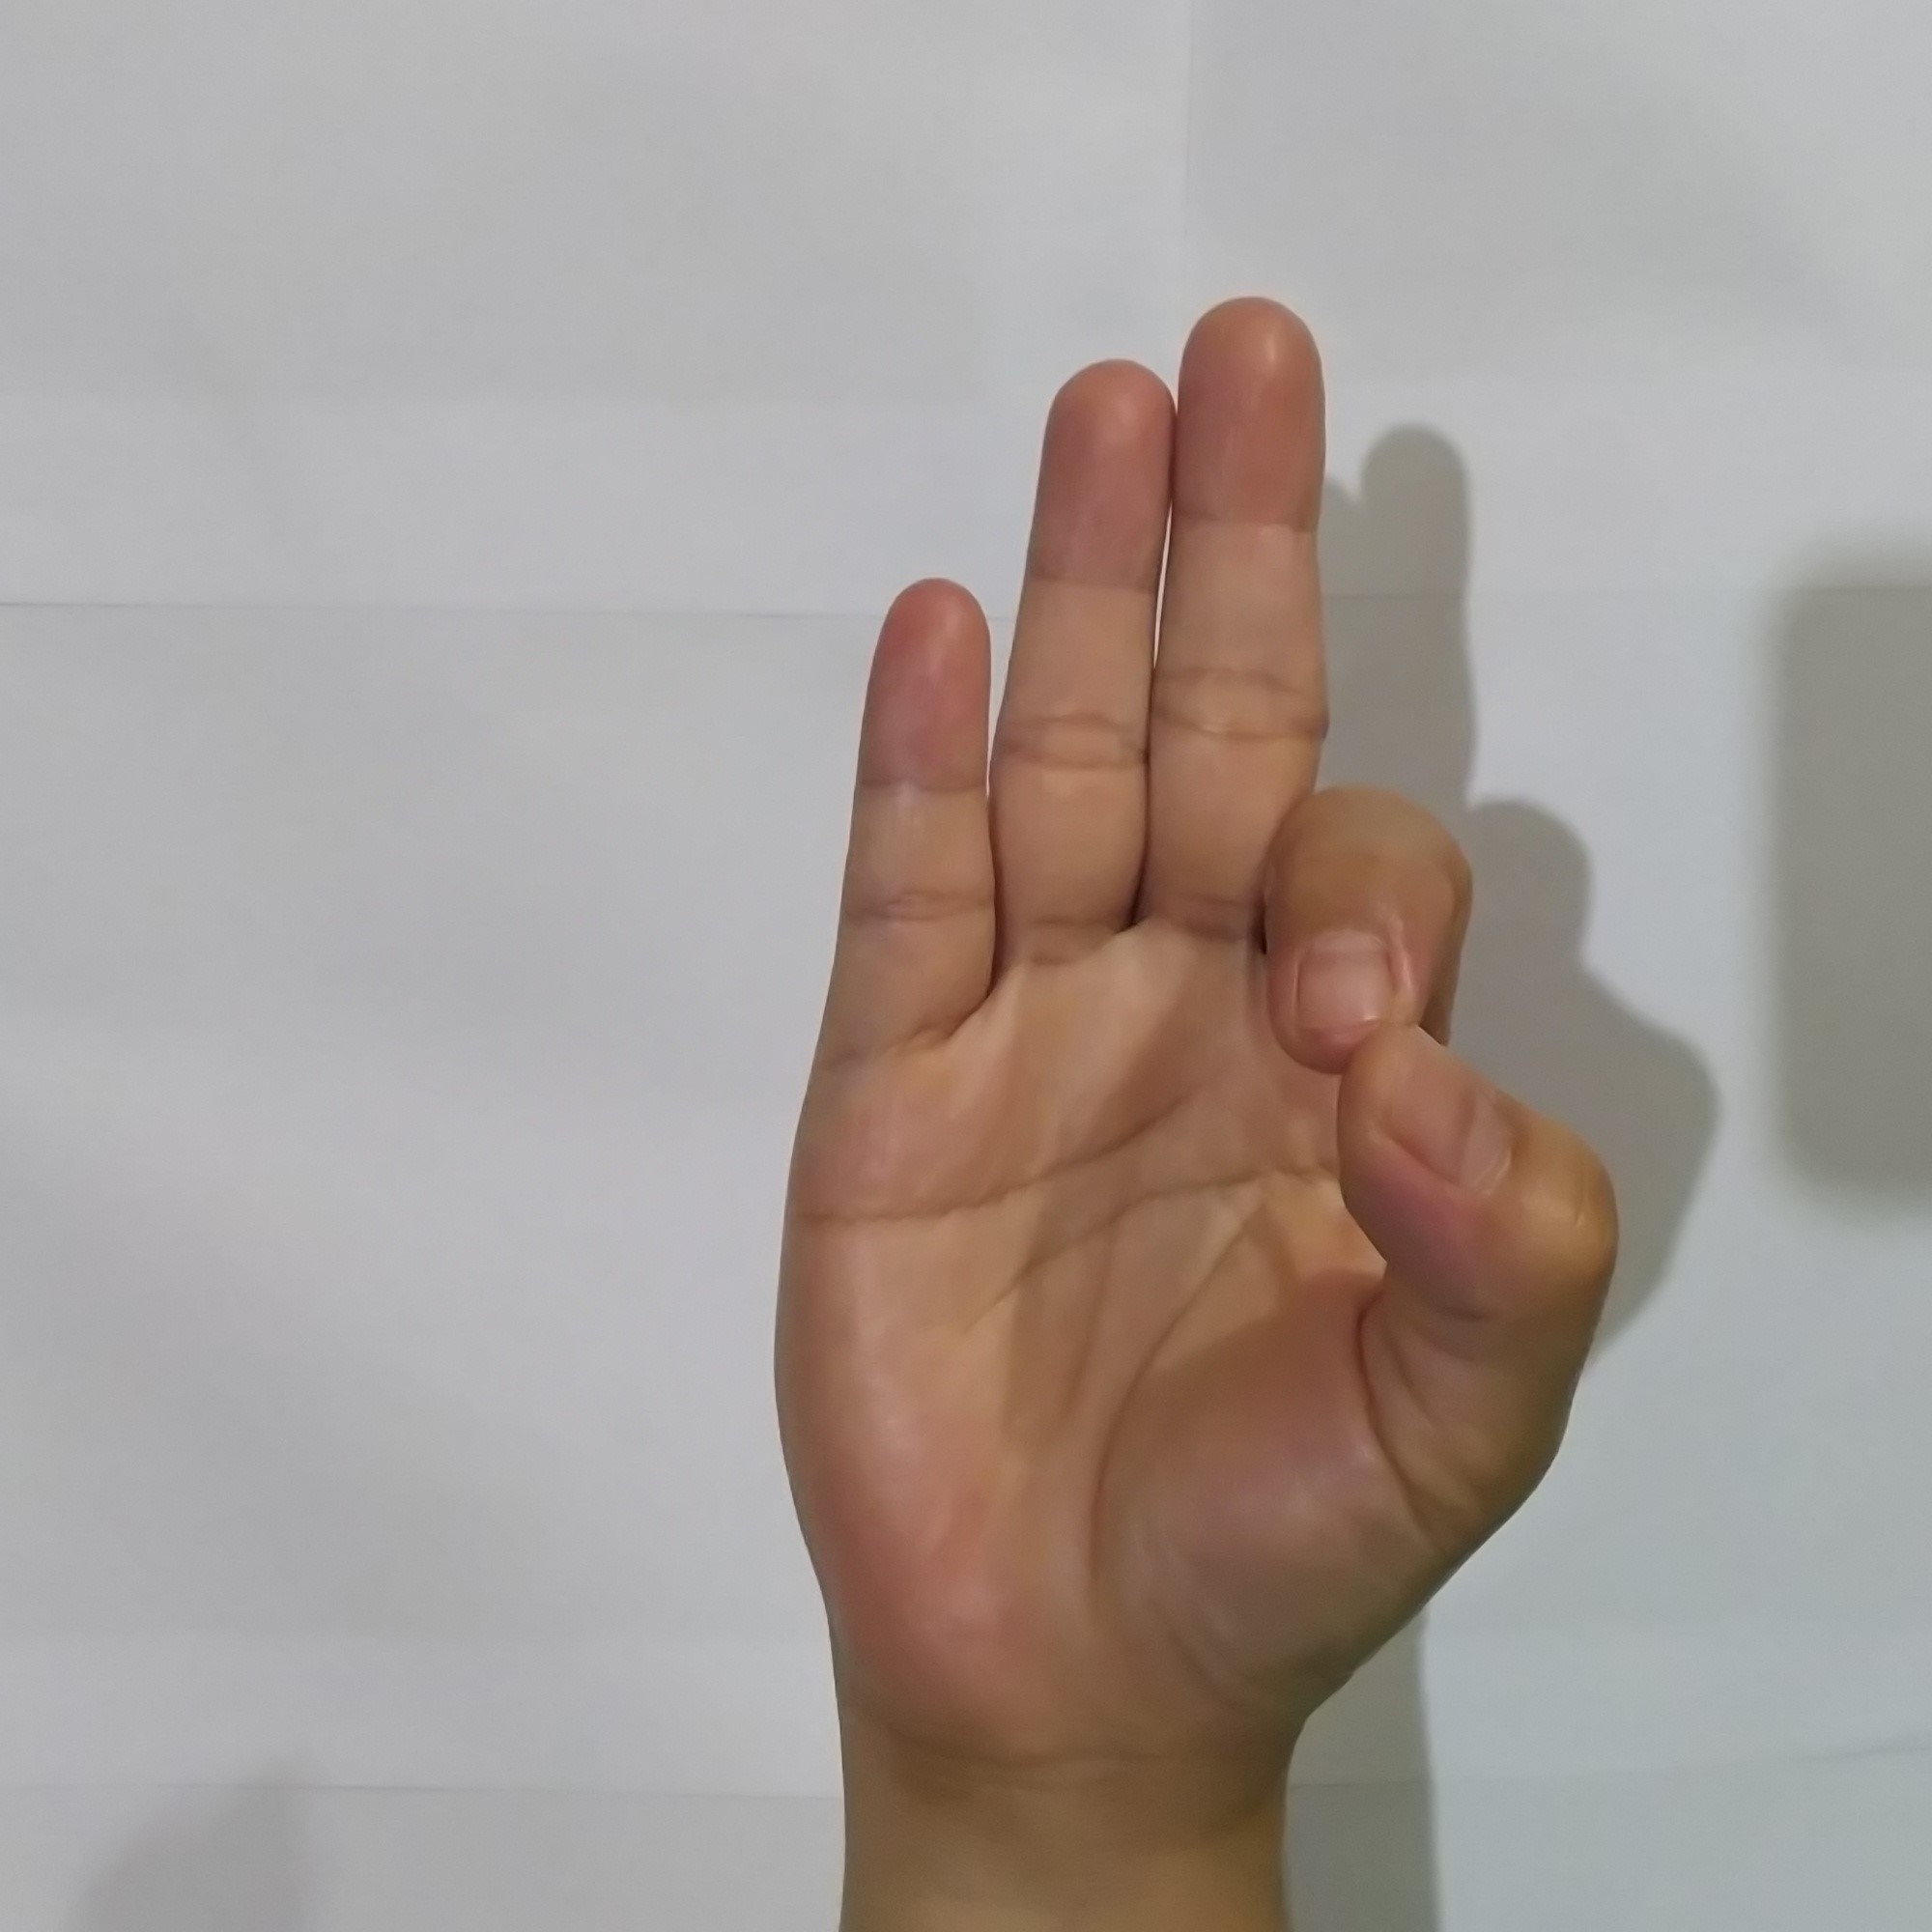F: (748, 271, 1635, 1730)
